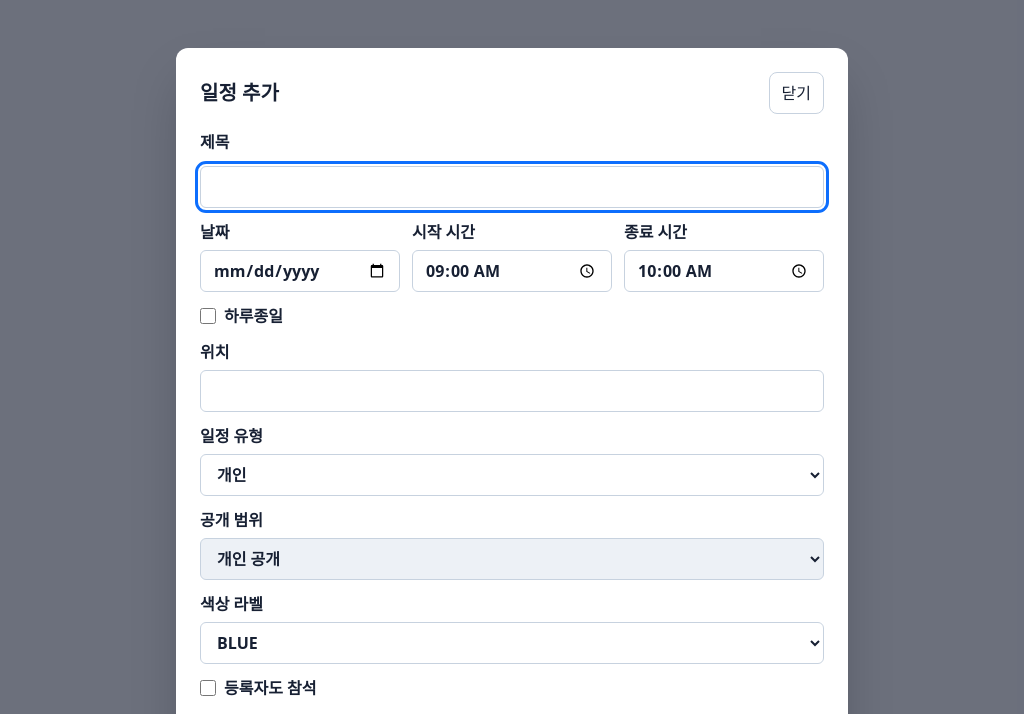
ScheduleCreateModal › keeps 403 target option failures visible instead of treating them as empty
Select "프로젝트" in the dropdown labelled "일정 유형" at (512, 475), box [200, 454, 824, 496]
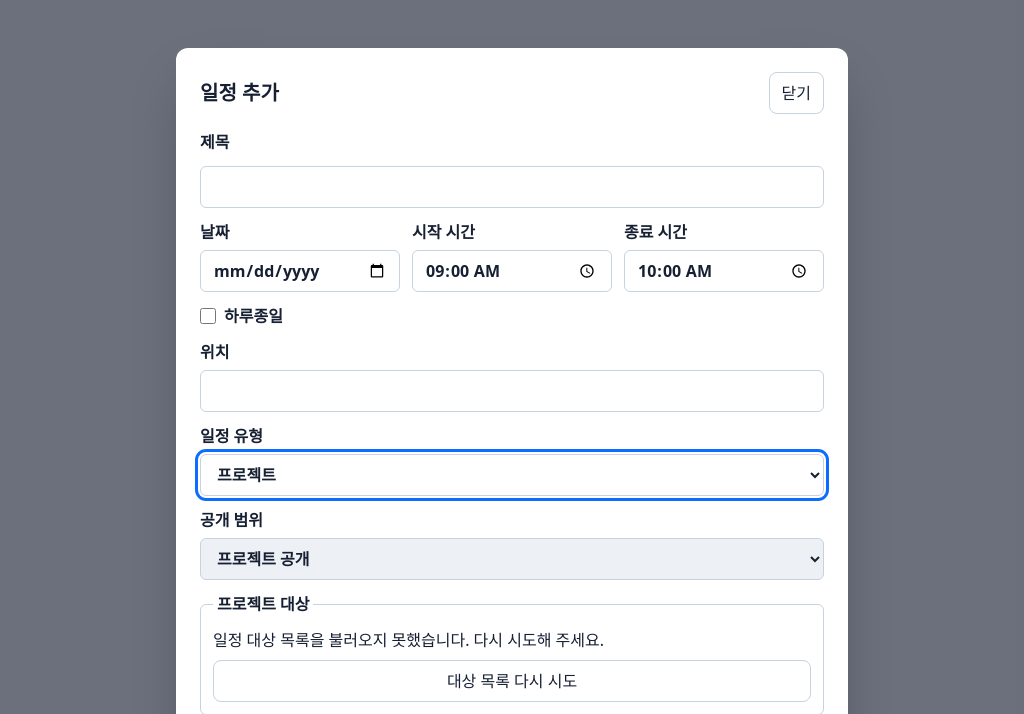
Result: the message shows "일정 대상 목록을 불러오지 못했습니다." at [213, 629, 604, 651]
